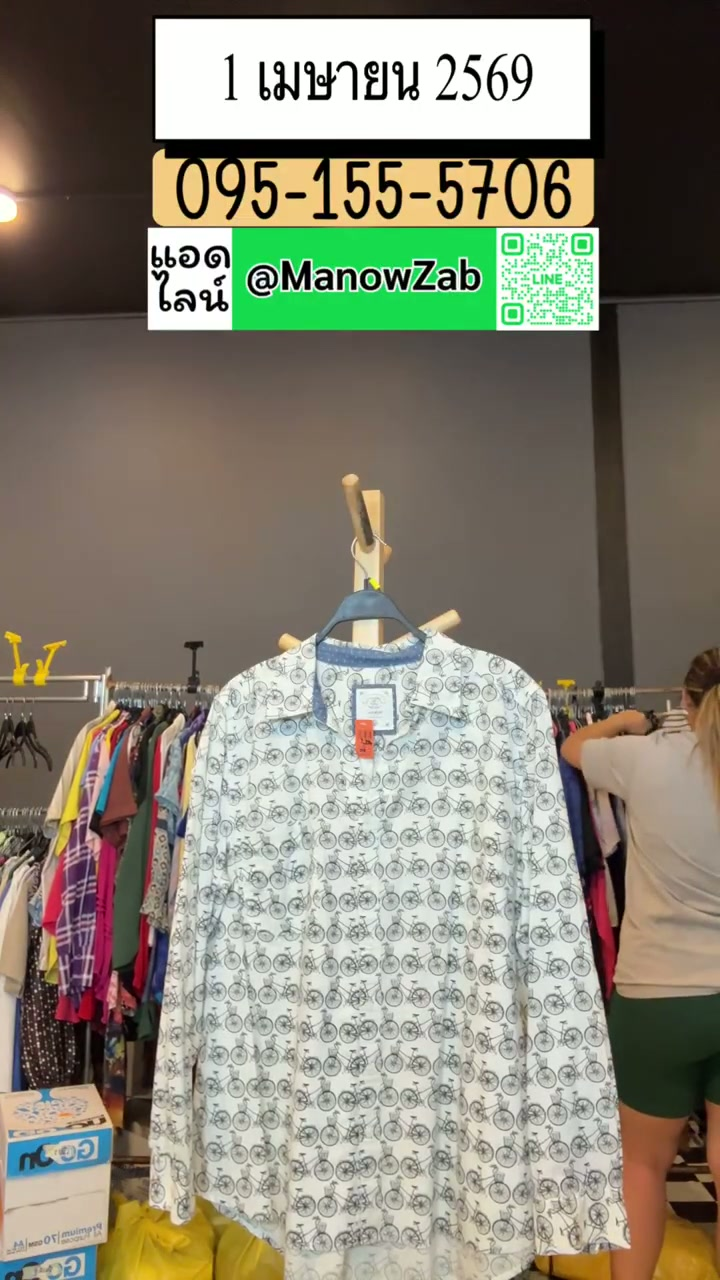display_shirt: (150, 634, 625, 1279)
